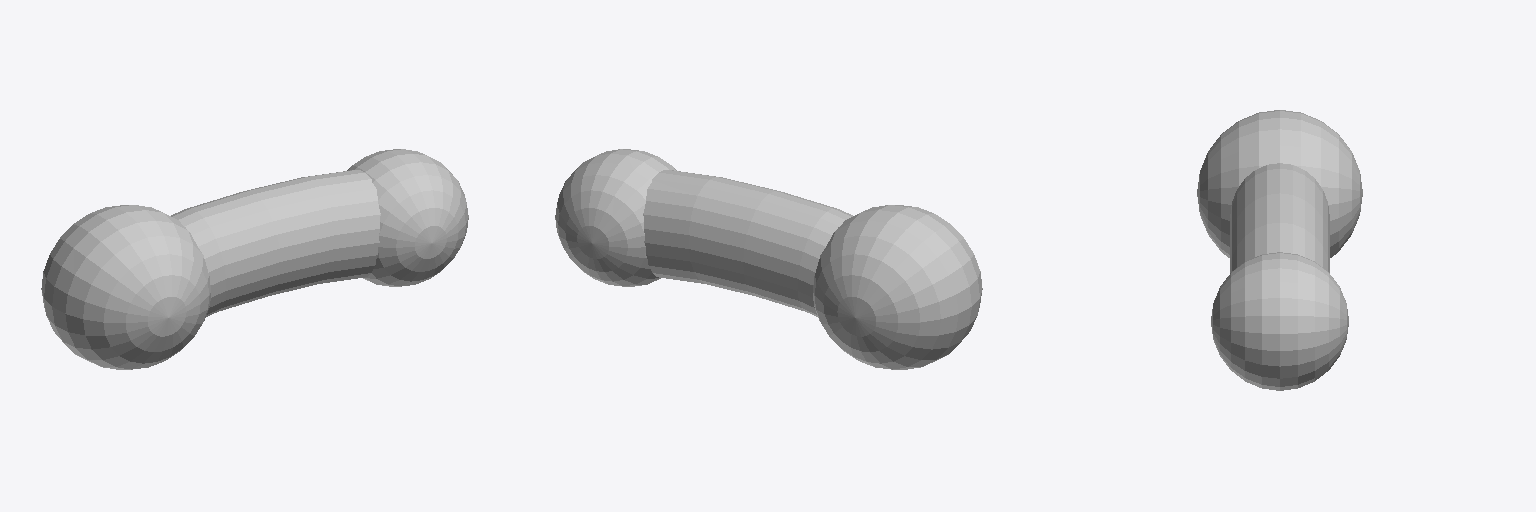
The model's file is Neck.obj.
3 views of the same model, side by side, from view 1: azimuth 30°, elevation 25°; view 2: azimuth 150°, elevation 25°; view 3: azimuth 270°, elevation 25° (orthographic).
Parts seen in each view (by area): view 1: neck.001; view 2: neck.001; view 3: neck.001.
Part boxes in pixels (bbox=[...]): neck.001: bbox=[41, 149, 468, 369]; neck.001: bbox=[555, 149, 982, 369]; neck.001: bbox=[1197, 110, 1362, 390].
Bounding box in the file's own units: 0.1702 × 0.06 × 0.06.